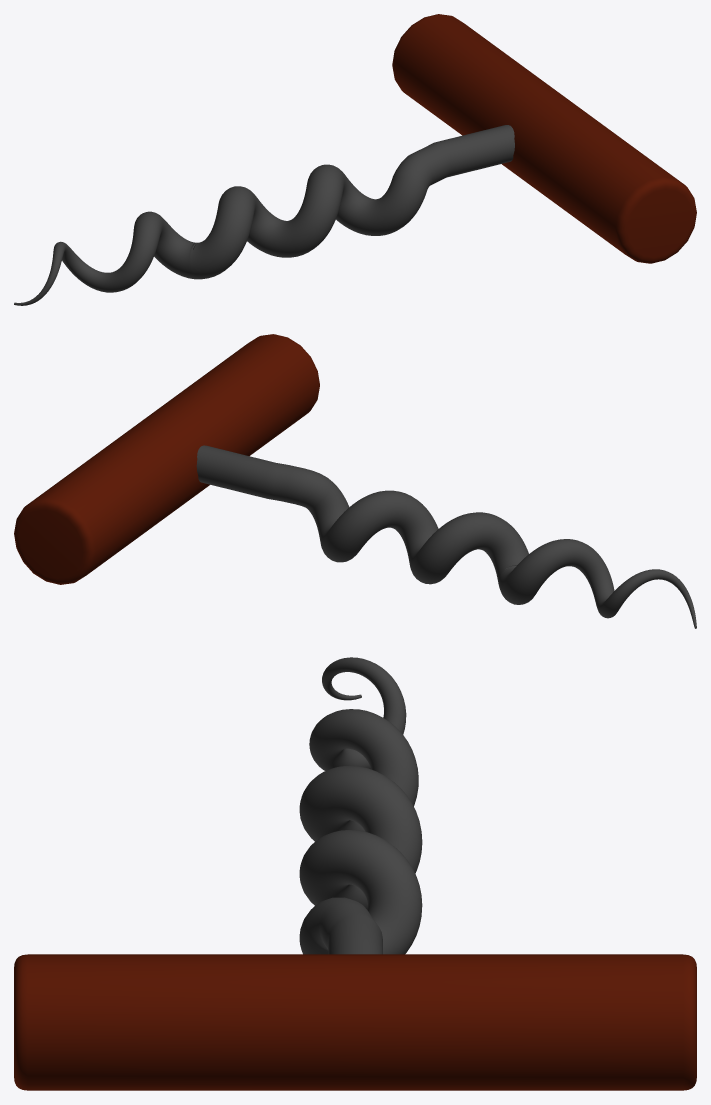
File: Corkscrews.fbx
3 renders of one model, top to bottom at view 1: azimuth 30°, elevation 25°; view 2: azimuth 150°, elevation 25°; view 3: azimuth 270°, elevation 25°, orthographic. The views are drawn at different scales.
Parts seen in each view (by area): view 1: Corkscrews; view 2: Corkscrews; view 3: Corkscrews.
Boxes of the visible parts, x1,y1,x2,y2 form: Corkscrews: (14,14,696,305); Corkscrews: (14,334,696,628); Corkscrews: (14,657,696,1090).
Bounding box in the file's own units: 14.24 × 2.28 × 10.
